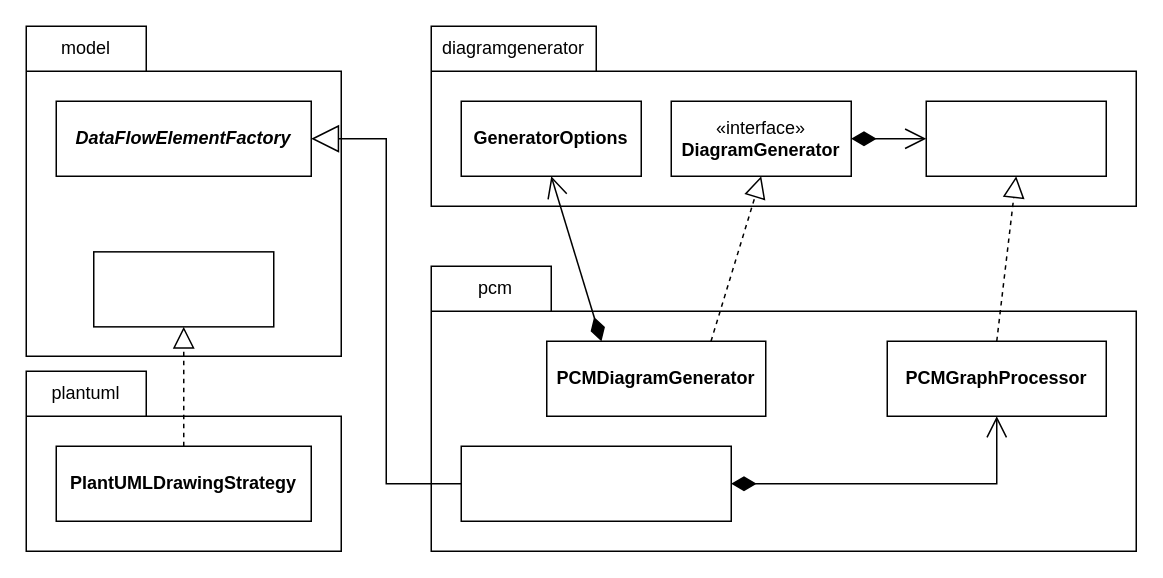
Image size: 1163x578. Some labels were removed from this diagram. Here are the shapes that lost their labels. From the top down, the box of each, then its label:
(925, 100, 1106, 176): «interface» GraphProcessor
(92, 250, 274, 327): «interface» DrawingStrategy
(460, 445, 731, 521): PCMDataFlowElementFactory
